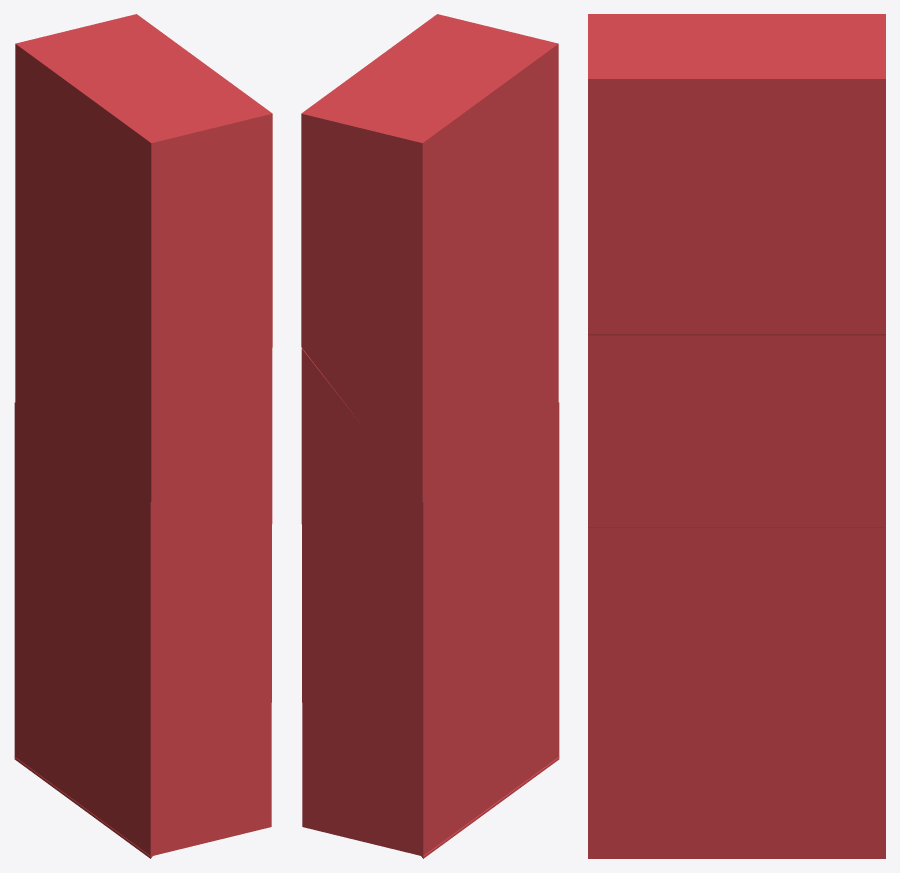
3 views of the same model, side by side, from view 1: azimuth 30°, elevation 25°; view 2: azimuth 150°, elevation 25°; view 3: azimuth 270°, elevation 25° (orthographic). The views are drawn at different scales.
Visible parts, largest first — view 1: base5.001; view 2: base5.001; view 3: base5.001.
Part boxes in pixels (bbox=[...]): base5.001: bbox=[14, 14, 272, 858]; base5.001: bbox=[301, 14, 559, 858]; base5.001: bbox=[588, 14, 885, 858].
Size of the model in its own units: 0.7965 by 4.45 by 1.53.
